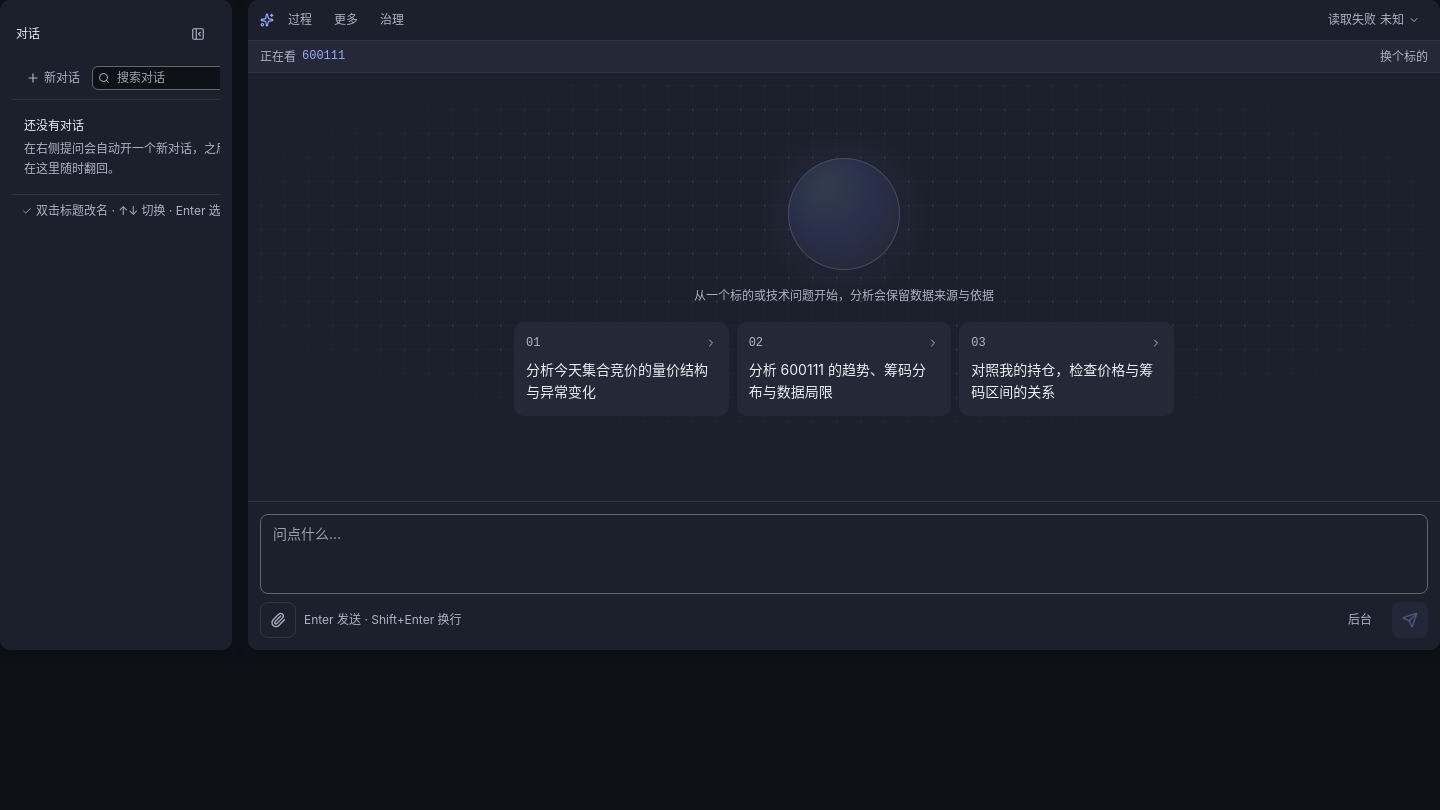
Test: 证据齐套度条接线 › 失败文案帧落 failed（未取到），不会被后续开跑或流结束洗白
Expected: the button named "发送" is shown, [1392, 602, 1428, 638]
Type "600111 怎么样" into the text box with placeholder "问点什么…" at (844, 554), box [260, 514, 1428, 594]
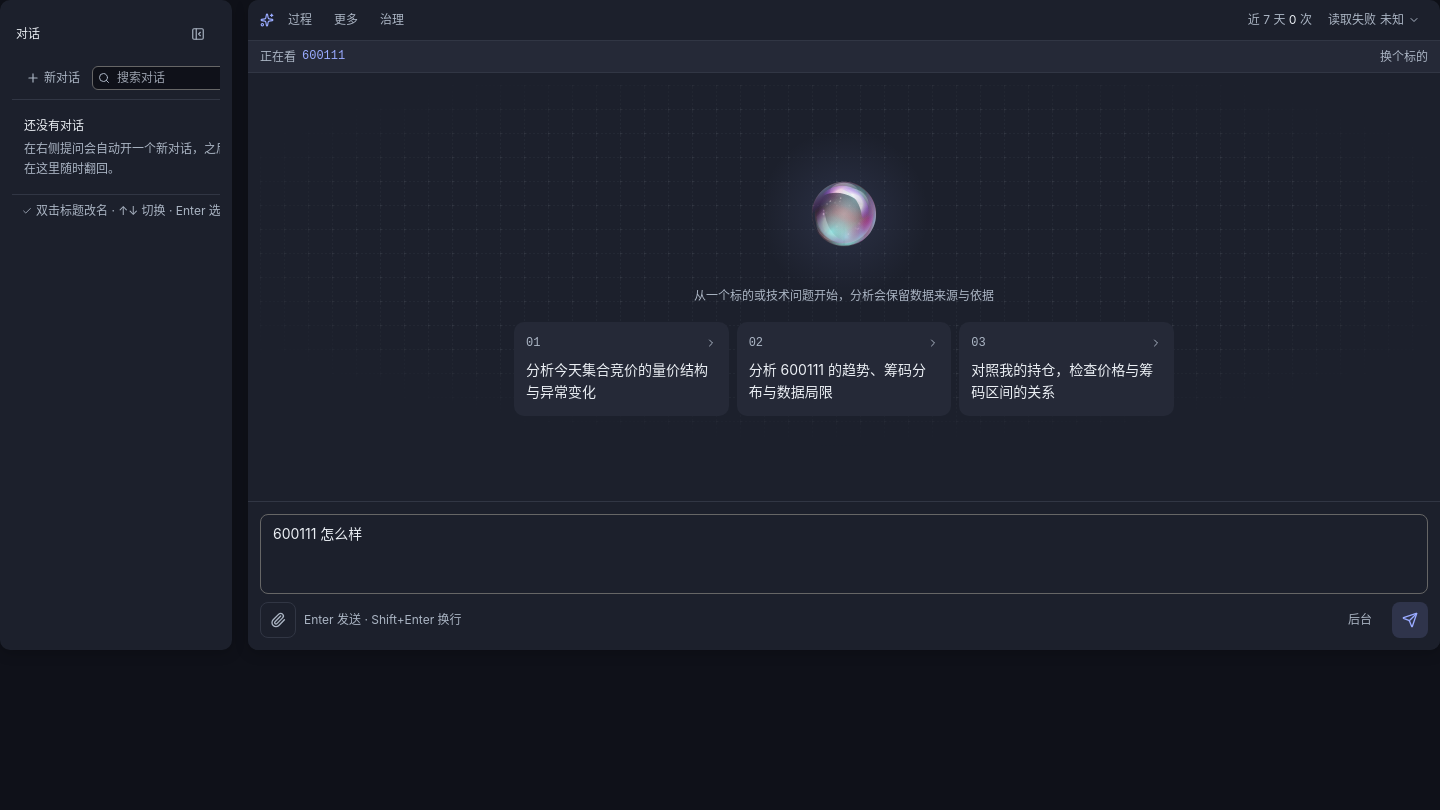
Click the button named "发送" at (1410, 620), box [1392, 602, 1428, 638]
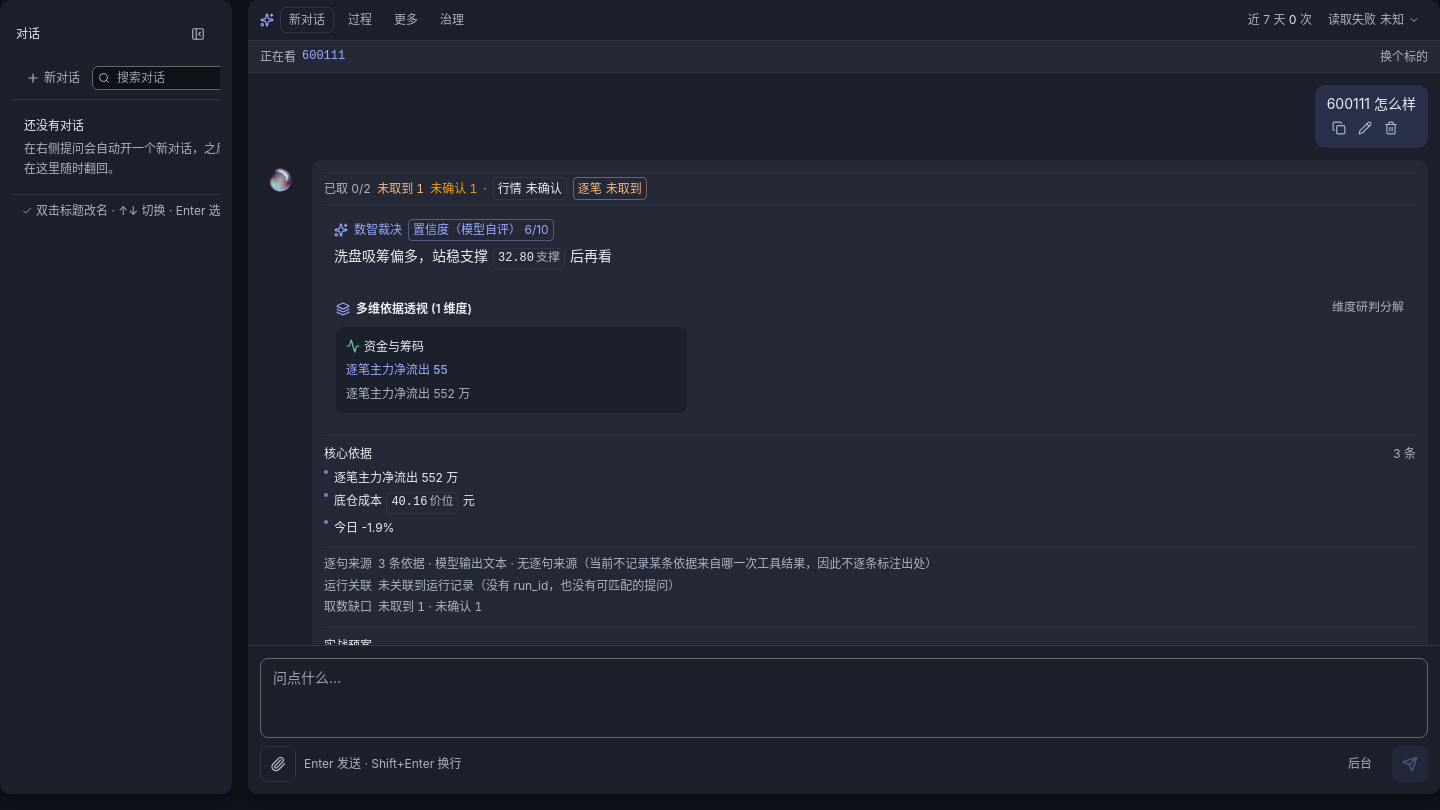
Expected: the element with test id "evidence-readiness" is shown, [324, 172, 1416, 205]
Expected: the element with test id "copilot-answer-card" is shown, [324, 211, 1416, 645]
Expected: the element with test id "evidence-readiness-item" shows "未取到", [606, 181, 642, 196]
